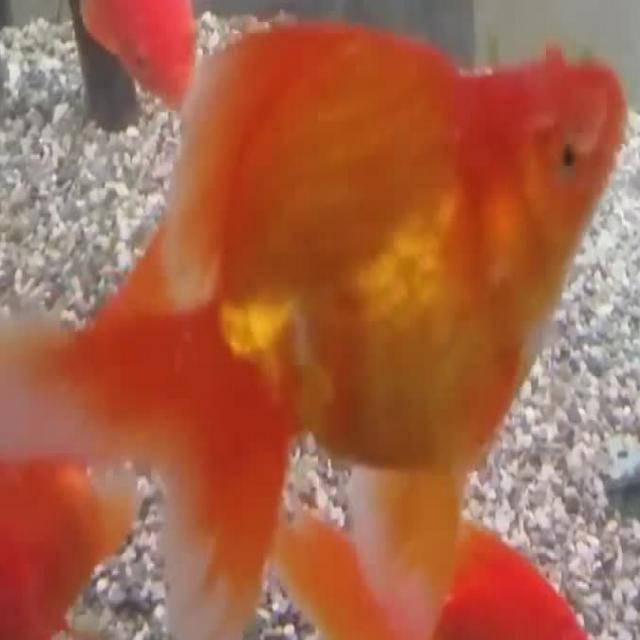fish: (0, 1, 639, 640)
